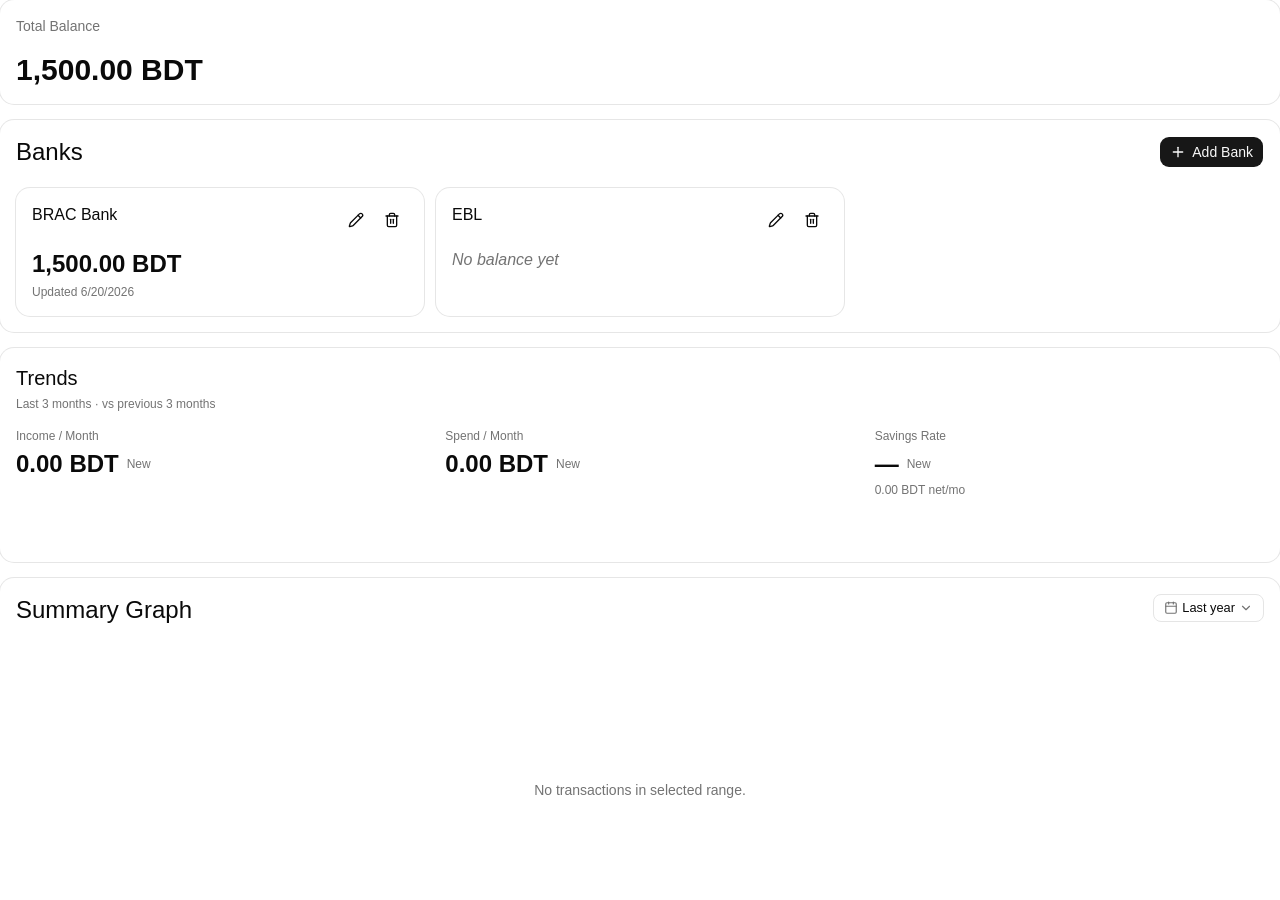
Test: FinancePage › edits a bank balance via the modal and updates the total
Expected: the text "EBL" is shown, [452,204,482,226]
Click the button named "edit" in the row of "EBL": (776, 220) [760,204,792,236]
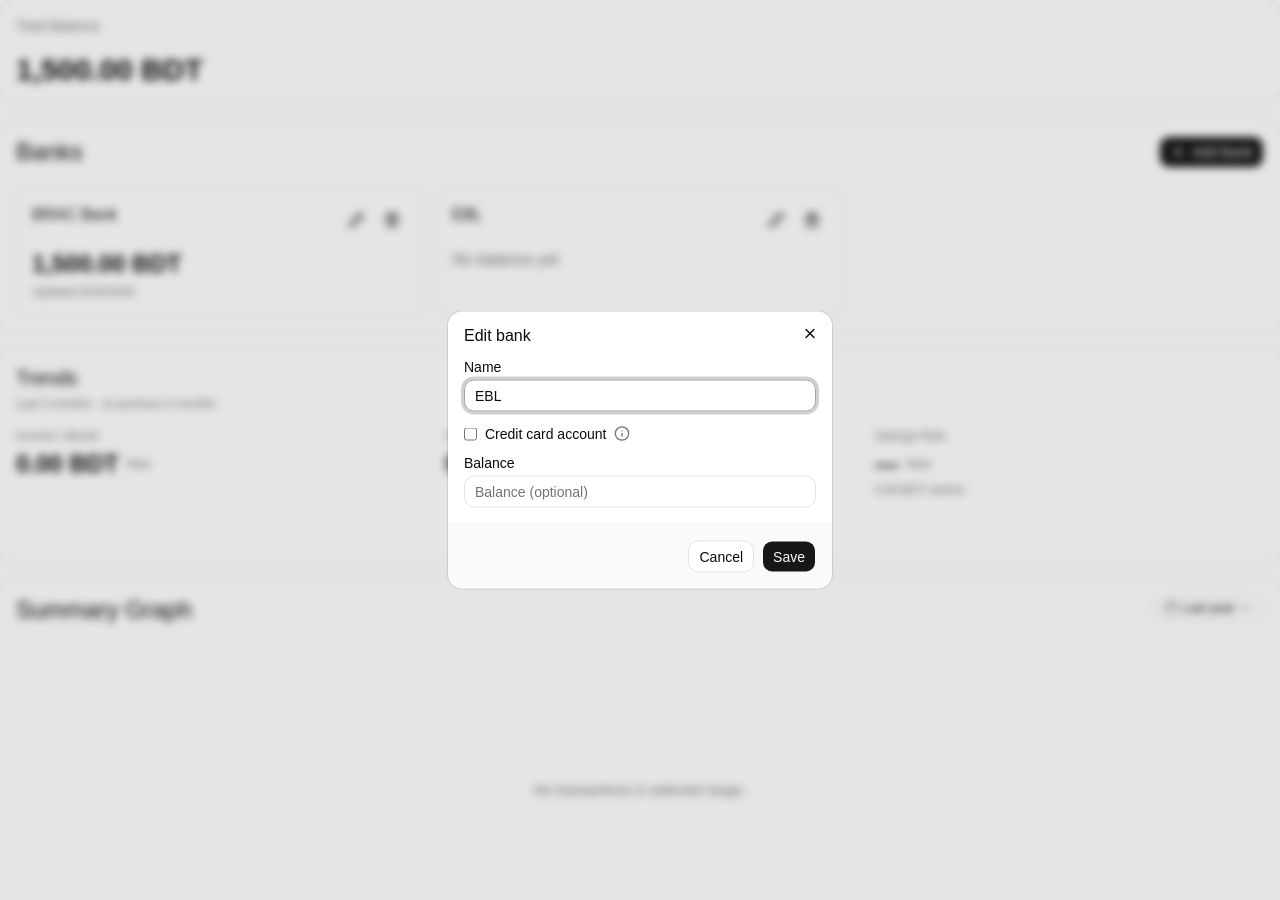
Expected: the heading "Edit bank" is shown, [464,326,531,344]
In the number field labelled "Balance": (640, 492) [464,476,816,508], type "500.00"
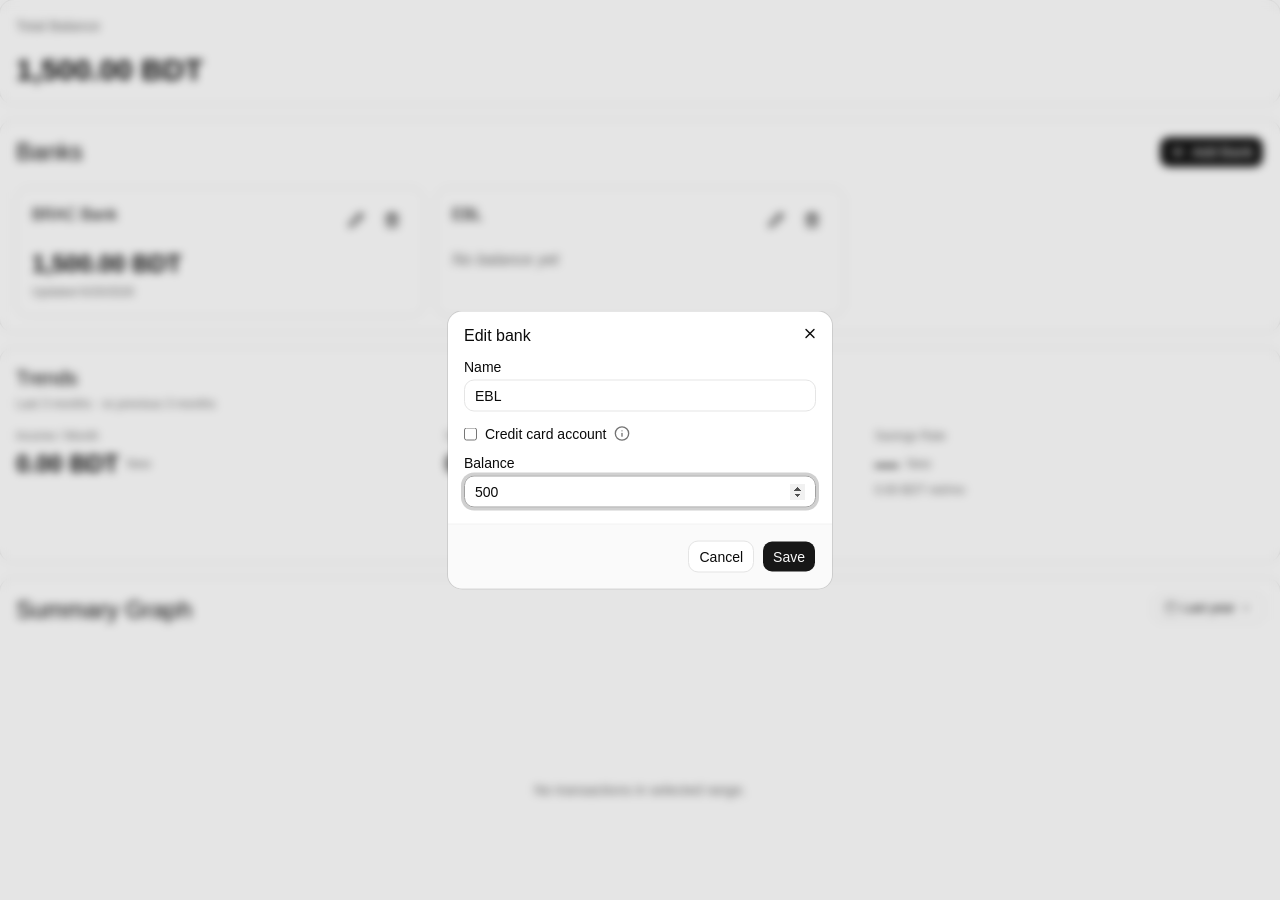
Click the button "Save": (789, 556) [762,540,816,572]
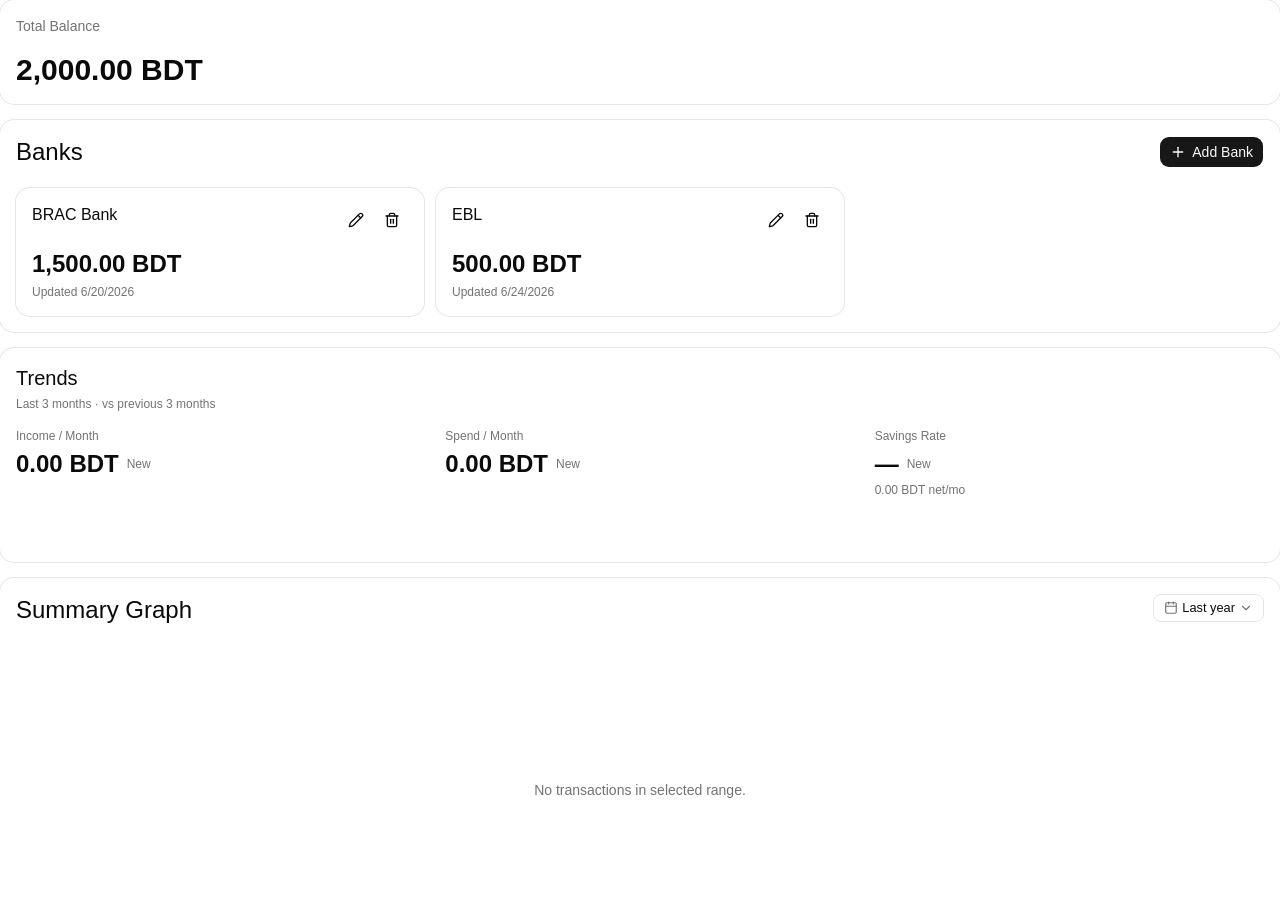
Expected: the text "2,000.00 BDT" is shown, [16,53,203,86]
Expected: the text "500.00 BDT" is shown, [452,250,581,277]
